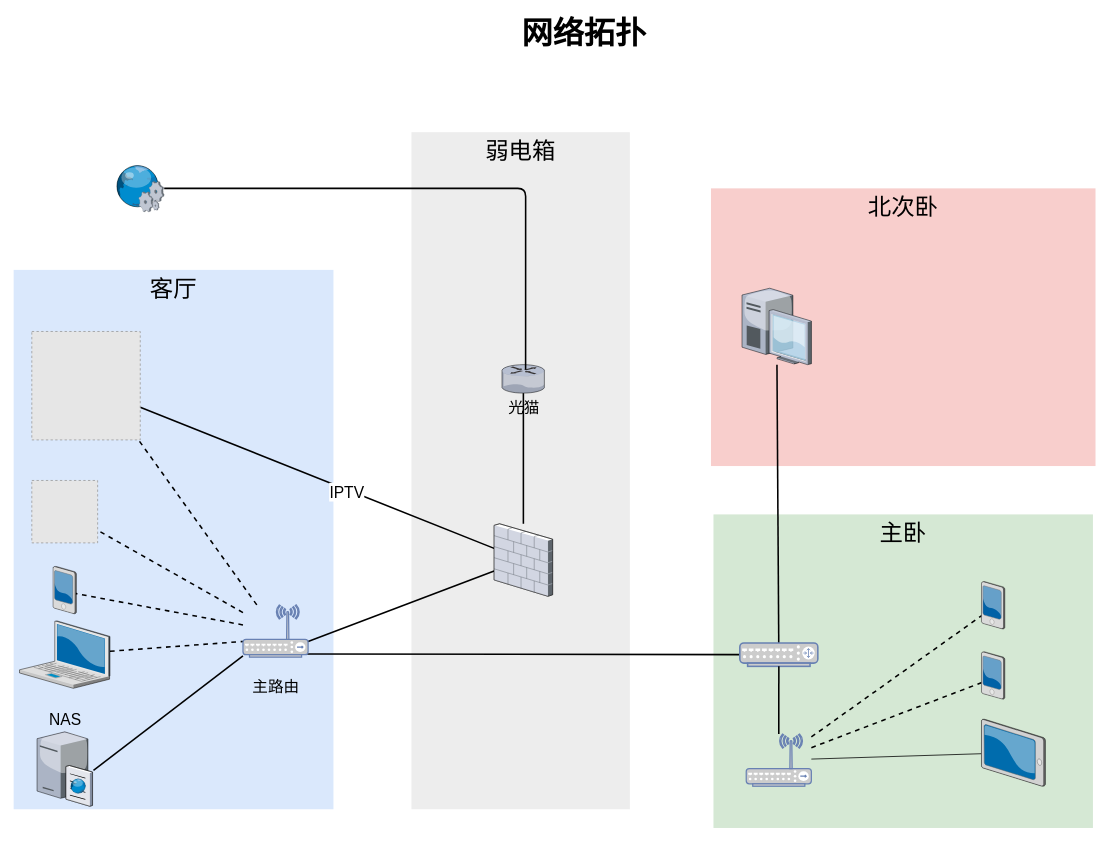
The diagram is 1108 pixels wide and 842 high, and some of its shapes have lost their labels. Grey dashed boxes stand in for pictures. The shapes that lost their labels are listed below. From the top down, each one's centre as x and y in pixels, then its label:
At point 139,188: "互 联网".
At point 778,654: "2.5G交换机".
At point 778,760: "子路由".
